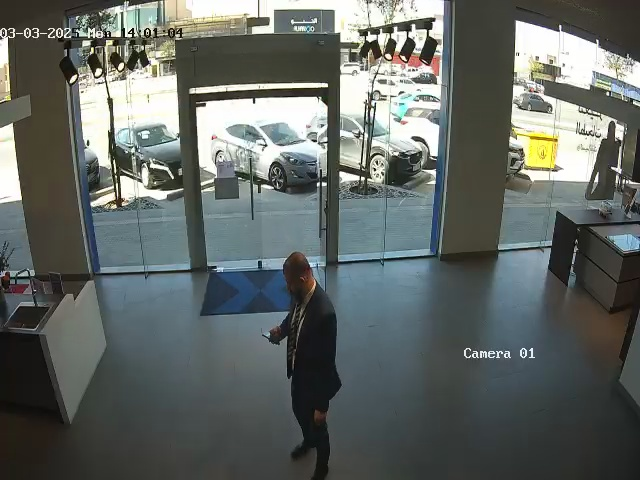employee: (268, 252, 342, 479)
